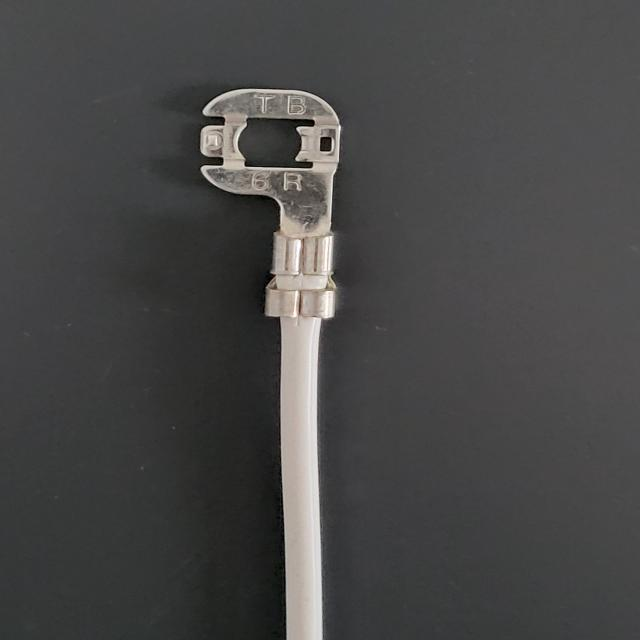defect: (228, 216, 380, 339)
